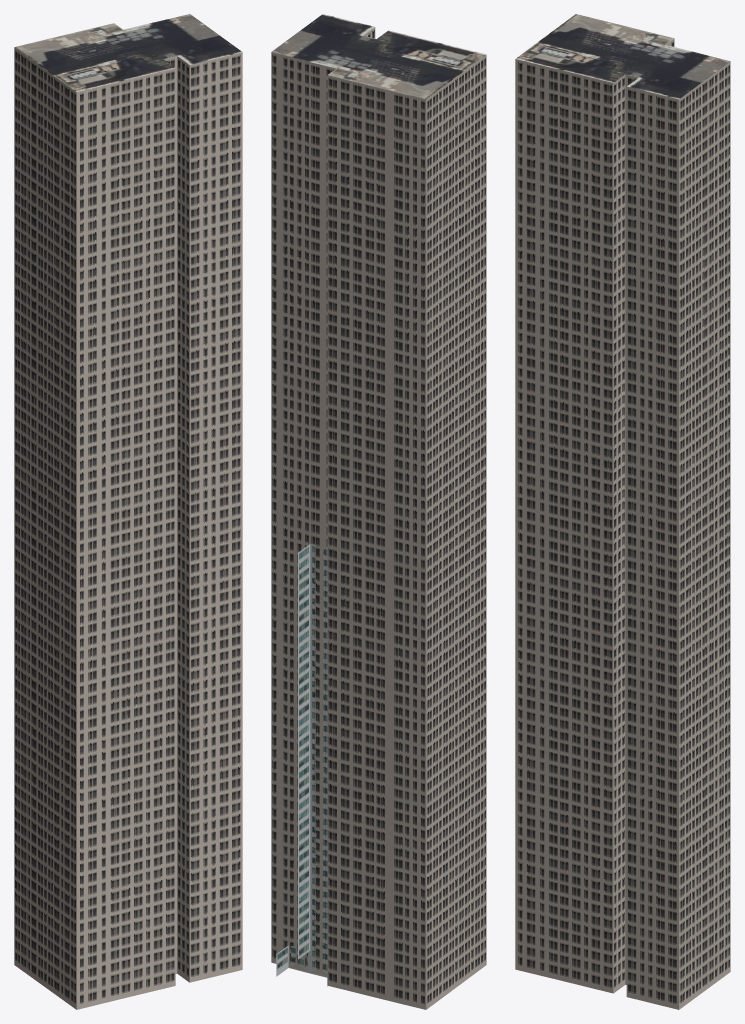
The model's file is building24.fbx.
The picture shows the model from 3 angles, left to right: view 1: azimuth 30°, elevation 25°; view 2: azimuth 150°, elevation 25°; view 3: azimuth 330°, elevation 25°; orthographic projection.
Visible parts, largest first — view 1: geometryt040100010000000110110100110010010000100st46_53W53, Object.1052, geometryt040100010000000110110100110010010000100st47_53W53; view 2: geometryt040100010000000110110100110010010000100st46_53W53, Object.1052, geometryt040100010000000110110100110010010000100st47_53W53, Object.1051, geometryt040100010000000110110100110010010000100st41_Fi_1241; view 3: geometryt040100010000000110110100110010010000100st46_53W53, Object.1052, geometryt040100010000000110110100110010010000100st47_53W53.
Part boxes in pixels (bbox=[...]): geometryt040100010000000110110100110010010000100st46_53W53: bbox=[14, 48, 240, 1004]; Object.1052: bbox=[14, 47, 242, 1009]; geometryt040100010000000110110100110010010000100st47_53W53: bbox=[14, 14, 242, 91]; geometryt040100010000000110110100110010010000100st46_53W53: bbox=[272, 27, 486, 1004]; Object.1052: bbox=[271, 27, 486, 1009]; geometryt040100010000000110110100110010010000100st47_53W53: bbox=[272, 14, 486, 99]; Object.1051: bbox=[277, 544, 327, 972]; geometryt040100010000000110110100110010010000100st41_Fi_1241: bbox=[276, 544, 327, 986]; geometryt040100010000000110110100110010010000100st46_53W53: bbox=[518, 39, 730, 1004]; Object.1052: bbox=[515, 38, 730, 1009]; geometryt040100010000000110110100110010010000100st47_53W53: bbox=[516, 14, 730, 99].
Size of the model in its own units: 6070 by 32032 by 4114.
5 materials, 5 textured.
